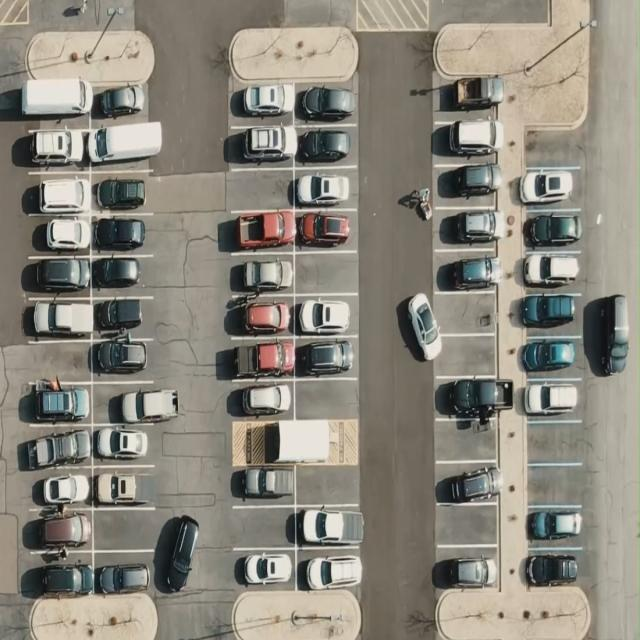space-empty: (224, 504, 295, 548), (434, 289, 500, 336), (25, 338, 92, 384), (225, 167, 293, 212), (436, 417, 501, 462), (435, 504, 500, 548), (293, 250, 357, 294), (436, 333, 498, 378), (94, 508, 160, 550), (294, 378, 358, 421), (523, 421, 587, 464), (294, 462, 357, 505), (527, 124, 583, 165), (528, 464, 584, 504)
space-occupied: (226, 329, 296, 382), (88, 118, 162, 167), (22, 120, 90, 171), (22, 294, 94, 342), (92, 381, 167, 424), (433, 115, 503, 161), (228, 375, 295, 421), (26, 82, 93, 128), (435, 376, 505, 420), (225, 209, 293, 254), (23, 422, 91, 467), (225, 252, 293, 297), (226, 124, 294, 169), (433, 206, 501, 251), (433, 162, 501, 207), (27, 378, 92, 425), (24, 170, 90, 216), (296, 503, 360, 550), (518, 247, 584, 292), (294, 292, 358, 338), (29, 464, 94, 509), (435, 461, 500, 506), (94, 464, 160, 508), (516, 290, 582, 334), (434, 546, 500, 590), (30, 552, 93, 598), (294, 334, 358, 379), (292, 167, 356, 212), (518, 164, 582, 209), (90, 169, 154, 214), (294, 207, 358, 252), (296, 546, 361, 590), (228, 546, 296, 588), (222, 298, 293, 338), (433, 252, 500, 294), (296, 82, 359, 126), (28, 508, 94, 550), (229, 82, 293, 125), (520, 377, 583, 420), (93, 423, 159, 464), (234, 461, 294, 506), (26, 257, 93, 297), (521, 334, 583, 377), (90, 214, 156, 254), (92, 77, 152, 121), (522, 210, 584, 252), (297, 125, 358, 167), (526, 504, 584, 548), (29, 215, 91, 256), (92, 337, 148, 382), (91, 256, 152, 297), (433, 80, 498, 118), (94, 554, 150, 596), (528, 546, 584, 588), (92, 298, 149, 338)
